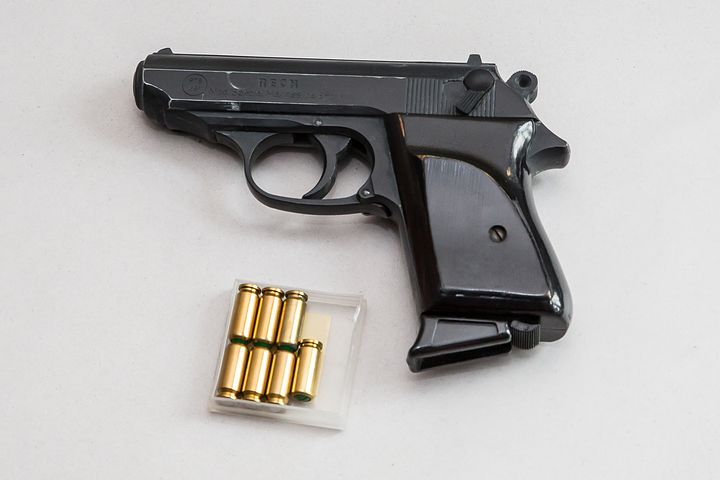gun: (118, 37, 596, 365)
